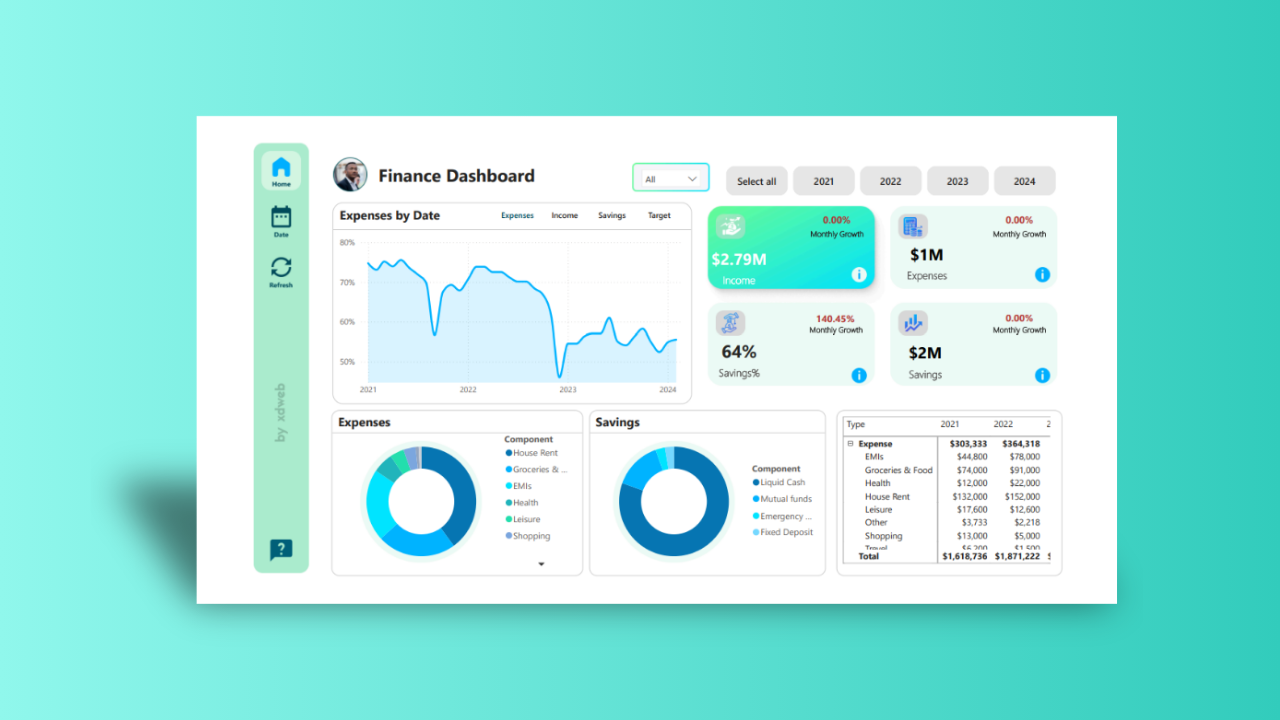

Layout of this report page (visuals, bound fields, positions):
{"tool":"powerbi","page":{"name":"Page 1","canvas":[1280,720],"ordinal":0},"visuals":[{"type":"donutChart","title":"Savings","fields":{"Y":["Dataset.Savings"],"Category":["Dataset.Component"]},"box":[536.2,437.5,360,252.5],"z":0},{"type":"card","fields":{"Values":["Dataset.Expenses"]},"box":[993.8,167.5,113.8,88.8],"z":1000},{"type":"areaChart","fields":{"Y":["Dataset.Line_Chart_Measures"],"Category":["Dataset.Date"]},"box":[146.4,120,547.3,307.3],"z":2000},{"type":"card","fields":{"Values":["Dataset.Savings"]},"box":[993.8,326.2,108.8,71.2],"z":3000},{"type":"card","fields":{"Values":["Dataset.Savings%"]},"box":[711.2,317.5,107.5,80],"z":4000},{"type":"advancedSlicerVisual","fields":{"Values":["Dataset.Year"]},"box":[753.8,31.2,468.8,58.8],"z":5000},{"type":"donutChart","title":"Expenses","fields":{"Category":["Dataset.Component"],"Y":["Dataset.Expenses"]},"box":[145,437.5,382.5,252.5],"z":6000},{"type":"pivotTable","fields":{"Values":["Dataset.Total_Values"],"Rows":["Dataset.Type","Dataset.Component"],"Columns":["Dataset.Year"]},"box":[913.8,437.5,343.8,252.5],"z":7000},{"type":"card","fields":{"Values":["Dataset.Income"]},"box":[716.4,180.9,97.3,74.5],"z":8000},{"type":"textbox","box":[210.9,55.5,300,46.4],"z":9000},{"type":"slicer","fields":{"Values":["Selected_Date.Month-yr"]},"box":[595.5,55.5,128.2,46.4],"z":10000},{"type":"advancedSlicerVisual","fields":{"Values":["Line_Selection_Table.Type"]},"box":[390.9,122.7,290,37.3],"z":11000},{"type":"card","fields":{"Values":["Dataset.Ex_ws_Sav"]},"box":[573.3,155,150,81.7],"z":12000},{"type":"card","fields":{"Values":["Dataset.Income_Monthly_Gr"]},"box":[882.9,135,61.8,26.4],"z":13000,"group":"g1"},{"type":"card","fields":{"Values":["Dataset.Savings_Monthly_Gr"]},"box":[1161.1,135.5,61.8,26.4],"z":13000,"group":"g3"},{"type":"card","fields":{"Values":["Dataset.Expenses_Monthly_Gr"]},"box":[1153.8,283.9,74.6,23.8],"z":13000,"group":"g4"},{"type":"card","fields":{"Values":["Dataset.Ex_ws_Sav"]},"box":[859.5,286.1,105,28.8],"z":13000,"group":"g2"},{"type":"group","id":"g1","title":"Group 1","box":[861.8,135,103.6,45.9],"z":14000},{"type":"group","id":"g2","title":"Group 1","box":[859.5,286.1,105.9,41.7],"z":15000},{"type":"textbox","box":[861.8,153.6,103.6,27.3],"z":15001,"group":"g1"},{"type":"textbox","box":[1140,154.1,103.6,27.3],"z":15001,"group":"g3"},{"type":"textbox","box":[861.8,300.5,103.6,27.3],"z":15001,"group":"g2"},{"type":"textbox","box":[1140,300.5,103.6,27.3],"z":15001,"group":"g4"},{"type":"group","id":"g3","title":"Group 1","box":[1140,135.5,103.6,45.5],"z":16000},{"type":"group","id":"g4","title":"Group 1","box":[1140,283.9,103.6,43.8],"z":17000}]}

Visuals, with their boxes in screenshot pixels (x1, y1, x2, y2), scaled from the page's 1280x720 canvas onto the 1280x720 screenshot:
"Savings" donutChart: box(536, 438, 896, 690)
card - Dataset.Expenses: box(994, 168, 1108, 256)
areaChart - Dataset.Line_Chart_Measures x Dataset.Date: box(146, 120, 694, 427)
card - Dataset.Savings: box(994, 326, 1103, 397)
card - Dataset.Savings%: box(711, 318, 819, 398)
advancedSlicerVisual - Dataset.Year: box(754, 31, 1223, 90)
"Expenses" donutChart: box(145, 438, 528, 690)
pivotTable - Dataset.Total_Values x Dataset.Type: box(914, 438, 1258, 690)
card - Dataset.Income: box(716, 181, 814, 255)
textbox: box(211, 56, 511, 102)
slicer - Selected_Date.Month-yr: box(596, 56, 724, 102)
advancedSlicerVisual - Line_Selection_Table.Type: box(391, 123, 681, 160)
card - Dataset.Ex_ws_Sav: box(573, 155, 723, 237)
card - Dataset.Income_Monthly_Gr: box(883, 135, 945, 161)
card - Dataset.Savings_Monthly_Gr: box(1161, 136, 1223, 162)
card - Dataset.Expenses_Monthly_Gr: box(1154, 284, 1228, 308)
card - Dataset.Ex_ws_Sav: box(860, 286, 964, 315)
"Group 1" group: box(862, 135, 965, 181)
"Group 1" group: box(860, 286, 965, 328)
textbox: box(862, 154, 965, 181)
textbox: box(1140, 154, 1244, 181)
textbox: box(862, 300, 965, 328)
textbox: box(1140, 300, 1244, 328)
"Group 1" group: box(1140, 136, 1244, 181)
"Group 1" group: box(1140, 284, 1244, 328)
